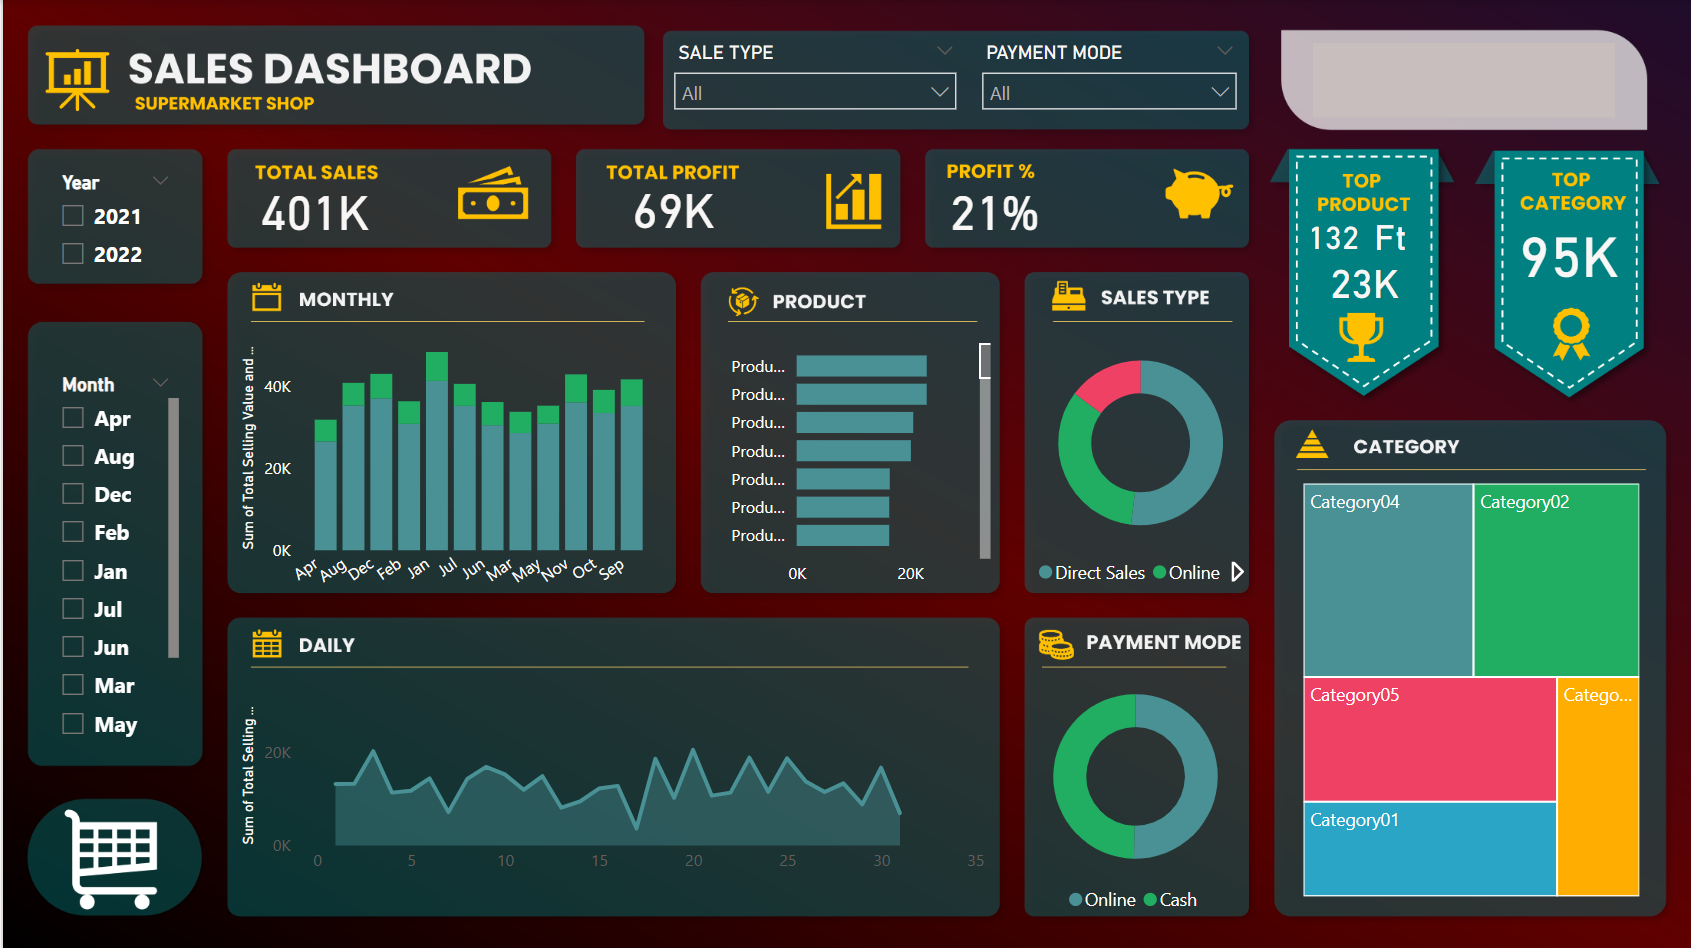

Layout of this report page (visuals, bound fields, positions):
{"tool":"powerbi","page":{"name":"Page 1","canvas":[1280,720],"ordinal":0},"visuals":[{"type":"slicer","fields":{"Values":["InputData.Year"]},"box":[32.3,125.9,106.5,92],"z":0},{"type":"slicer","fields":{"Values":["InputData.SALE TYPE"]},"box":[498.8,27.4,234,71],"z":1000},{"type":"slicer","fields":{"Values":["InputData.PAYMENT MODE"]},"box":[732.8,27.4,213.1,92],"z":2000},{"type":"slicer","fields":{"Values":["InputData.Month Name"]},"box":[32.3,279.2,106.5,290.5],"z":3000},{"type":"card","fields":{"Values":["Sum(InputData.Total Selling Value)"]},"box":[175.9,125.9,121.1,66.2],"z":4000},{"type":"card","fields":{"Values":["InputData.Profit"]},"box":[401.9,109.2,212.3,97.1],"z":5000},{"type":"card","fields":{"Values":["Sum(InputData.Total Selling Value)"]},"box":[950.7,166.3,163,95.2],"z":6000},{"type":"card","fields":{"Values":["Min(InputData.MasterData.UOM)"]},"box":[945.9,130.7,211.5,98.5],"z":7000},{"type":"card","fields":{"Values":["InputData.Profit %"]},"box":[682.8,124.3,138.8,69.4],"z":8000},{"type":"card","fields":{"Values":["Sum(InputData.Total Selling Value)"]},"box":[1128.3,145.3,117.8,92],"z":9000},{"type":"card","fields":{"Values":["Sum(InputData.QUANTITY)"]},"box":[903.9,132.4,209.8,96.8],"z":10000},{"type":"columnChart","fields":{"Category":["InputData.Month Name"],"Y":["Sum(InputData.Total Selling Value)","InputData.Profit"]},"box":[175.9,248.6,322.8,216.3],"z":11000},{"type":"clusteredBarChart","fields":{"Y":["Sum(InputData.Total Selling Value)"],"Category":["InputData.MasterData.PRODUCT"]},"box":[533.8,248.7,219.9,204.7],"z":12000},{"type":"areaChart","fields":{"Y":["Sum(InputData.Total Selling Value)"],"Category":["InputData.Day"]},"box":[175.9,521.4,576.2,150.1],"z":13000},{"type":"donutChart","fields":{"Y":["Sum(InputData.Total Selling Value)"],"Category":["InputData.SALE TYPE"]},"box":[779.6,248.6,166.3,205],"z":14000},{"type":"donutChart","fields":{"Y":["Sum(InputData.Total Selling Value)"],"Category":["InputData.PAYMENT MODE"]},"box":[765.1,506.8,188.9,195.3],"z":15000},{"type":"treemap","fields":{"Group":["InputData.MasterData.CATEGORY"],"Values":["Sum(InputData.Total Selling Value)"]},"box":[981.4,363.2,264.7,322.8],"z":16000},{"type":"shape","box":[992.7,33.9,229.2,56.5],"z":17000}]}

Visuals, with their boxes in screenshot pixels (x1, y1, x2, y2), scaled from the page's 1280x720 canvas onto the 1691x948 screenshot:
slicer - InputData.Year: [43,166,183,287]
slicer - InputData.SALE TYPE: [659,36,968,130]
slicer - InputData.PAYMENT MODE: [968,36,1250,157]
slicer - InputData.Month Name: [43,368,183,750]
card - Sum(InputData.Total Selling Value): [232,166,392,253]
card - InputData.Profit: [531,144,811,272]
card - Sum(InputData.Total Selling Value): [1256,219,1471,344]
card - Min(InputData.MasterData.UOM): [1250,172,1529,302]
card - InputData.Profit %: [902,164,1085,255]
card - Sum(InputData.Total Selling Value): [1491,191,1646,312]
card - Sum(InputData.QUANTITY): [1194,174,1471,302]
columnChart - InputData.Month Name x Sum(InputData.Total Selling Value): [232,327,659,612]
clusteredBarChart - Sum(InputData.Total Selling Value) x InputData.MasterData.PRODUCT: [705,327,996,597]
areaChart - Sum(InputData.Total Selling Value) x InputData.Day: [232,687,994,884]
donutChart - Sum(InputData.Total Selling Value) x InputData.SALE TYPE: [1030,327,1250,597]
donutChart - Sum(InputData.Total Selling Value) x InputData.PAYMENT MODE: [1011,667,1260,924]
treemap - InputData.MasterData.CATEGORY x Sum(InputData.Total Selling Value): [1297,478,1646,903]
shape: [1311,45,1614,119]
